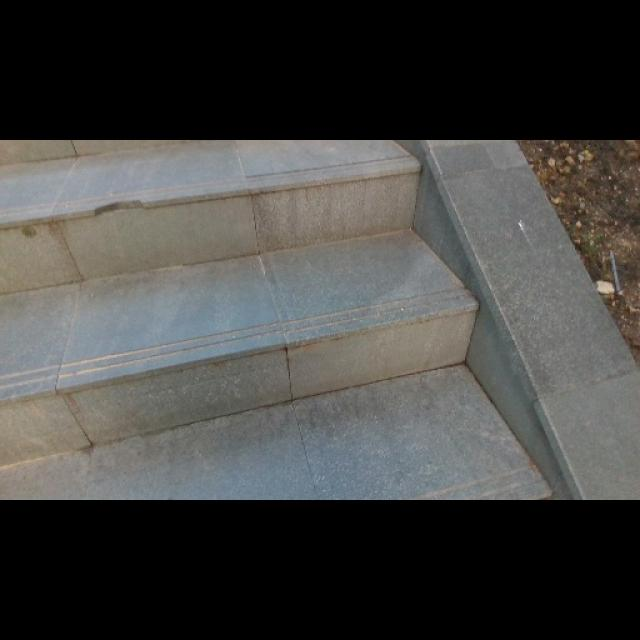Stairs: (0, 138, 555, 500)
